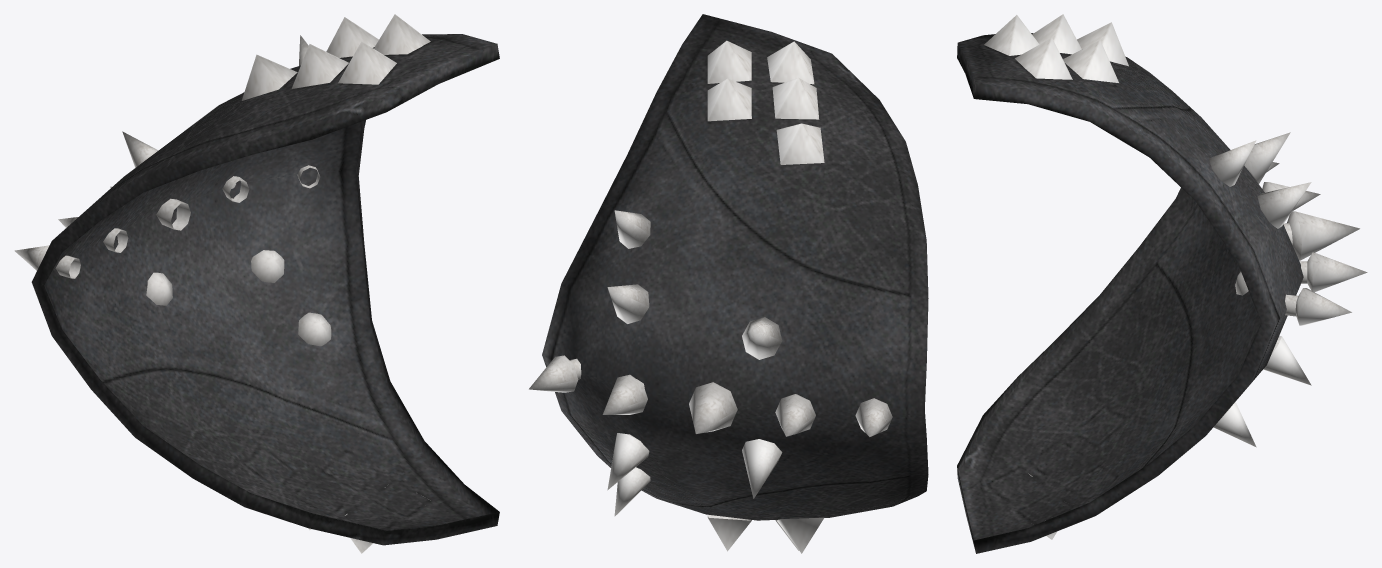
Rendered from F_SpikedMask.fbx.
The picture shows the model from 3 angles, left to right: view 1: azimuth 30°, elevation 25°; view 2: azimuth 150°, elevation 25°; view 3: azimuth 270°, elevation 25°; orthographic projection. The views are drawn at different scales.
Visible parts, largest first — view 1: 24_mask_0.3_0_0; view 2: 24_mask_0.3_0_0; view 3: 24_mask_0.3_0_0.
Boxes of the visible parts, <box> form: 24_mask_0.3_0_0: <box>14,14,499,553</box>; 24_mask_0.3_0_0: <box>529,14,928,553</box>; 24_mask_0.3_0_0: <box>957,14,1367,553</box>.
Size of the model in its own units: 0.0767 by 0.1055 by 0.0782.
